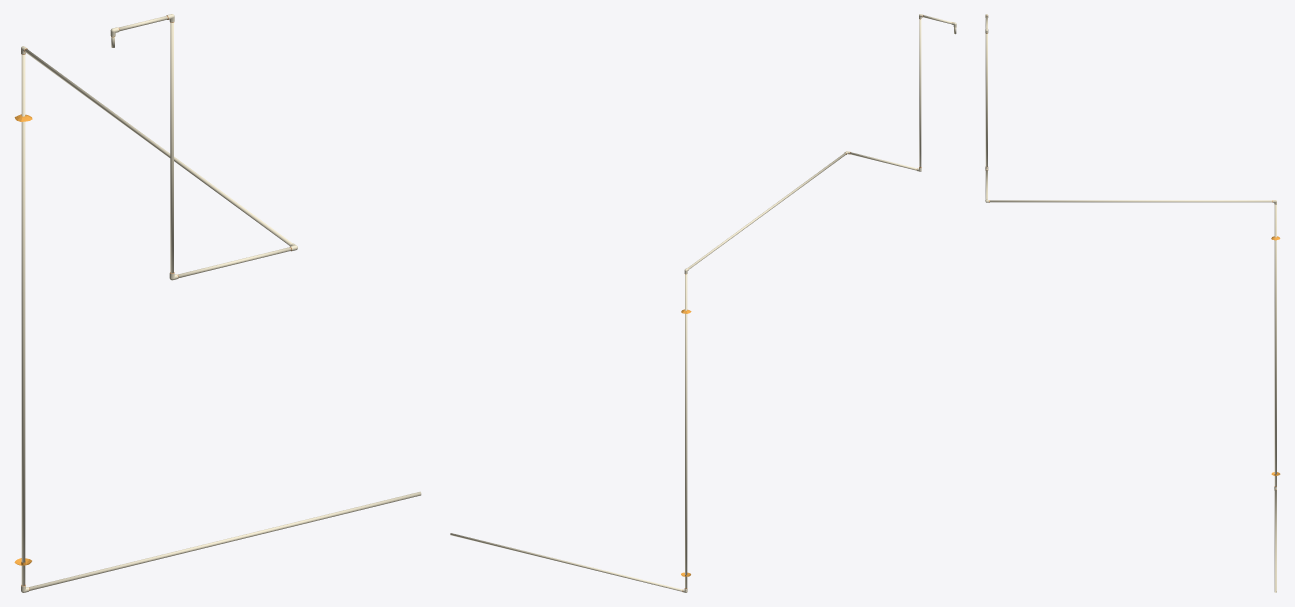
File: pipes_supply__water_heater__6a3c69c0.glb
3 views of the same model, side by side, from view 1: azimuth 30°, elevation 25°; view 2: azimuth 150°, elevation 25°; view 3: azimuth 270°, elevation 25° (orthographic). The views are drawn at different scales.
Parts seen in each view (by area): view 1: pipe_supply_hot_wh_attic; view 2: pipe_supply_hot_wh_attic; view 3: pipe_supply_hot_wh_attic.
Boxes of the visible parts, box(x1,y1,x2,y2) form: pipe_supply_hot_wh_attic: box(21, 16, 421, 590); pipe_supply_hot_wh_attic: box(450, 15, 956, 591); pipe_supply_hot_wh_attic: box(985, 15, 1276, 592).
Size of the model in its own units: 3.82 by 5.07 by 3.16.
